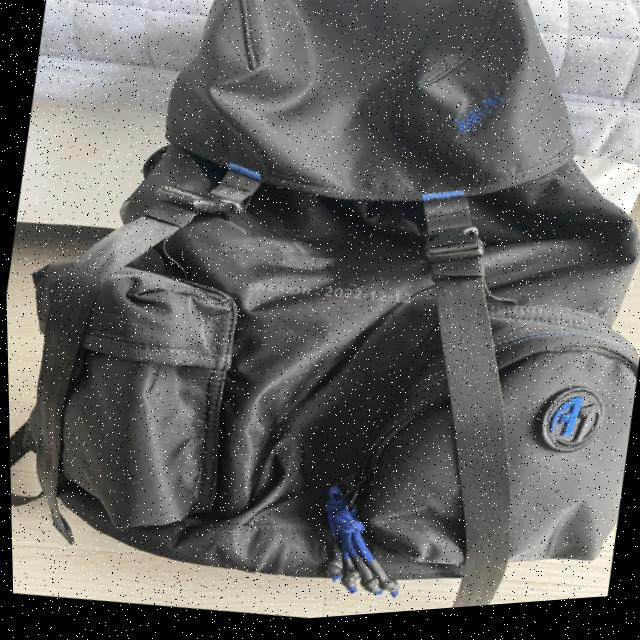backpack: (7, 0, 640, 640)
